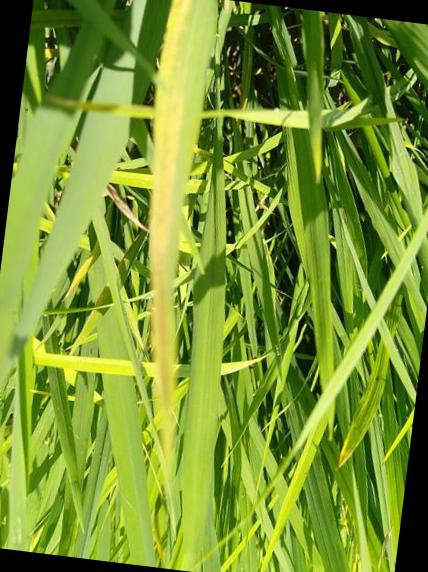Leaf Streak: (149, 0, 197, 540)
